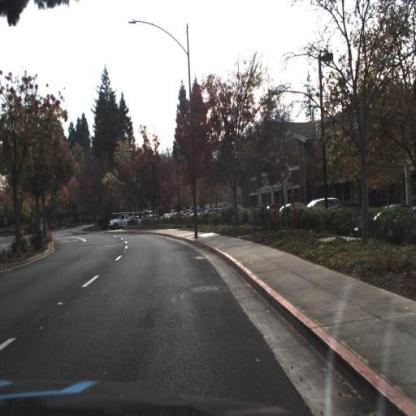car: (108, 211, 144, 229), (310, 198, 340, 210)
